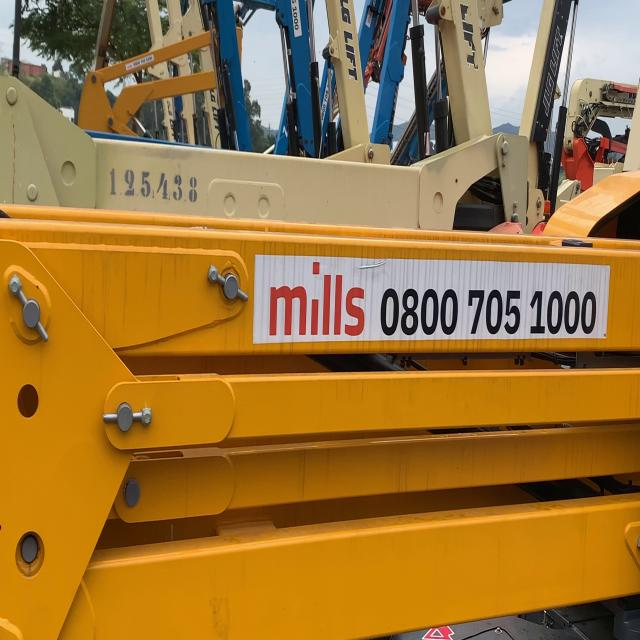Adesivo Longo: (251, 251, 613, 347)
